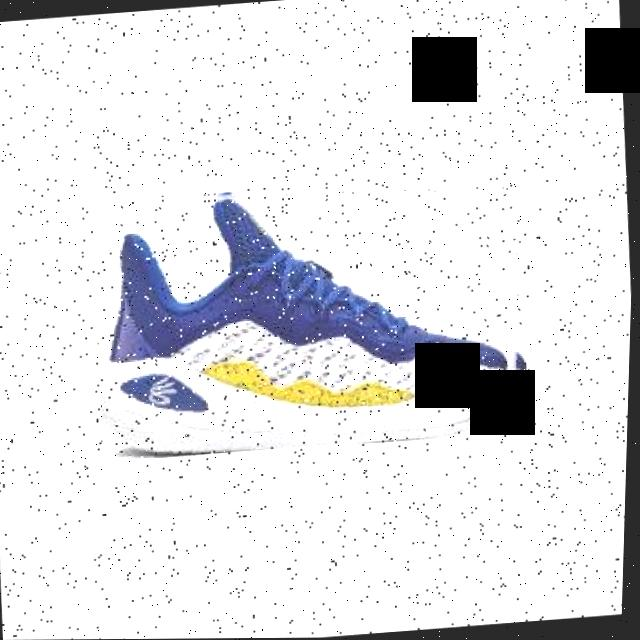shoe: (89, 170, 537, 458), (102, 193, 521, 455)
